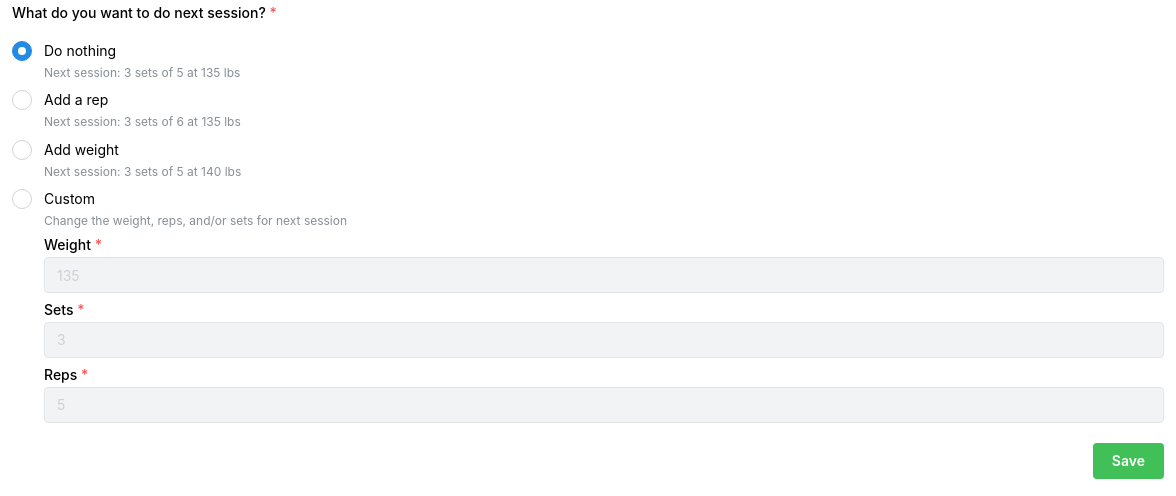
Scenario: ExerciseCompleteForm › field enablement › enables fields when Custom is selected
Click the radio button labelled "Custom" at [22, 199], box [12,189,32,209]
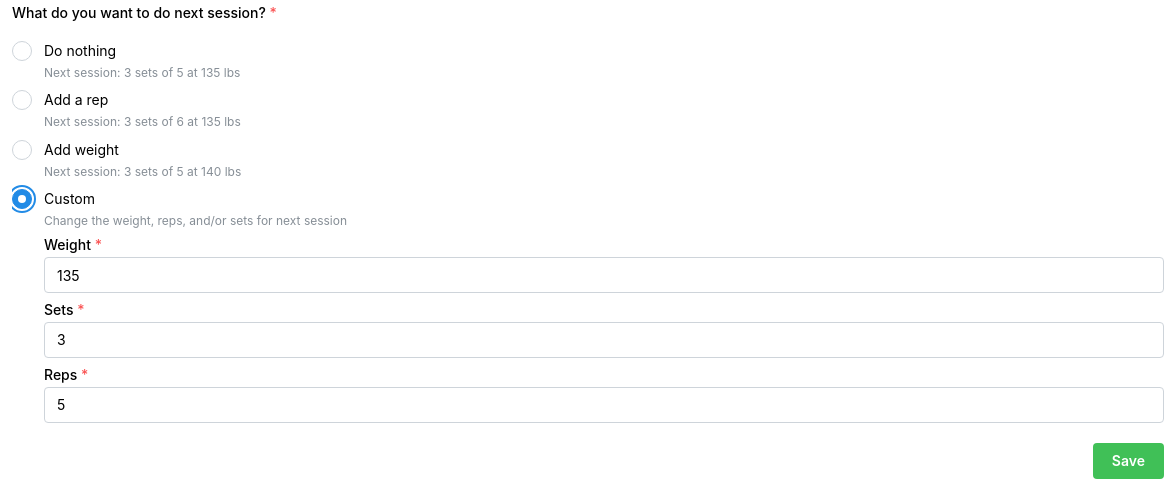
Now the field labelled "Weight" is enabled, box [44,257,1164,293]
Now the field labelled "Sets" is enabled, box [44,322,1164,358]
Now the field labelled "Reps" is enabled, box [44,387,1164,423]
